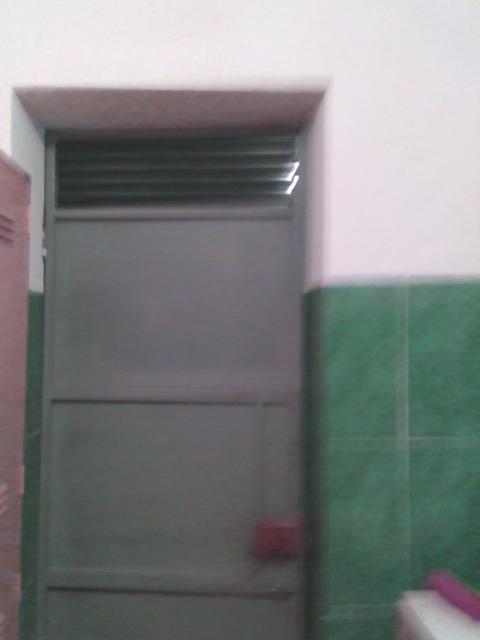closed_door: (26, 125, 305, 639)
